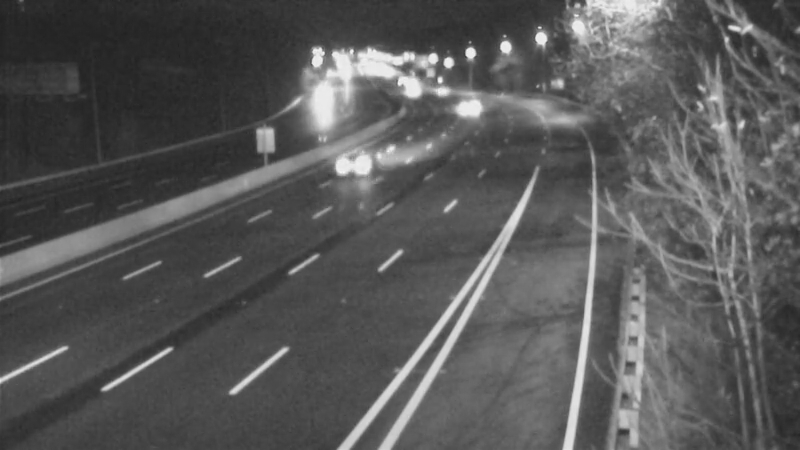vehicle: (317, 131, 397, 211), (421, 61, 471, 111), (439, 79, 489, 129), (294, 74, 344, 124)
